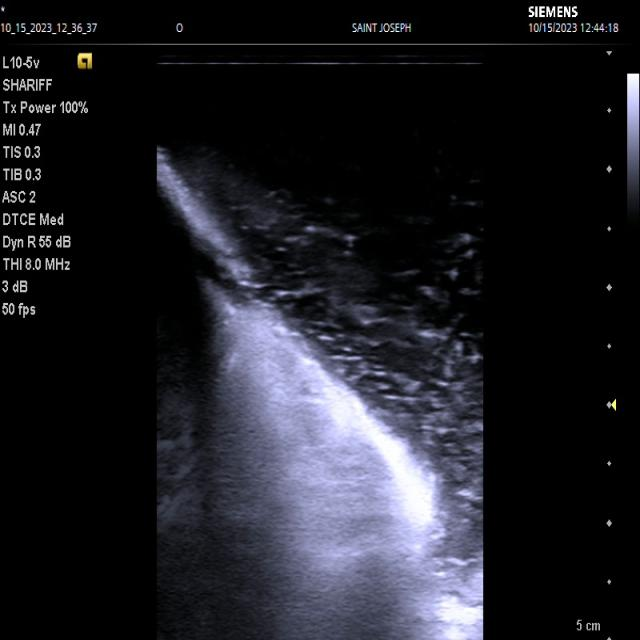tissue: (156, 148, 485, 640)
